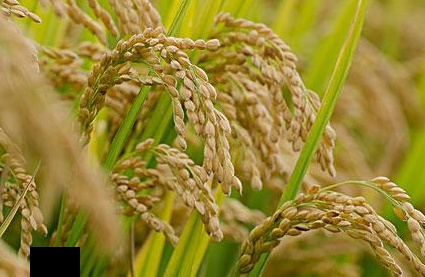rice: (73, 24, 242, 181), (237, 174, 424, 277), (80, 139, 228, 253)
